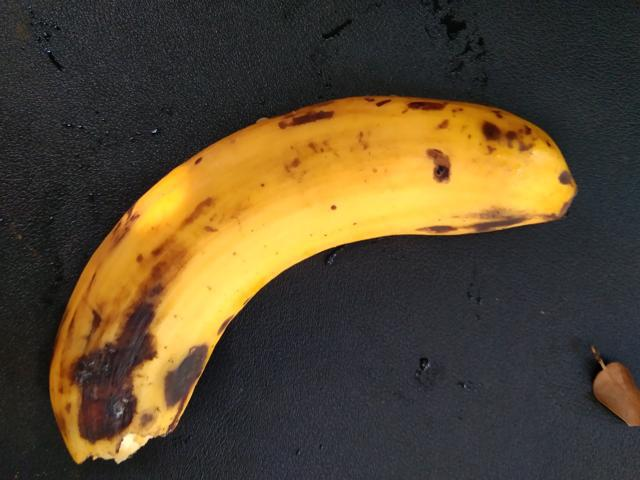overripe: (6, 82, 594, 476)
